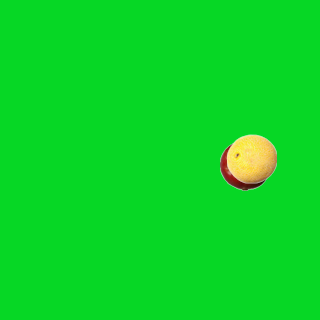Apple Braeburn: (219, 140, 269, 190)
Cantaloupe 1: (226, 133, 276, 183)
